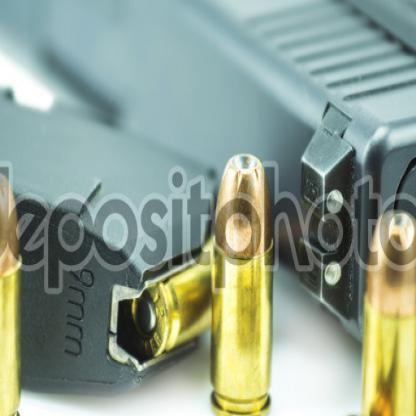gun: (0, 0, 416, 329)
